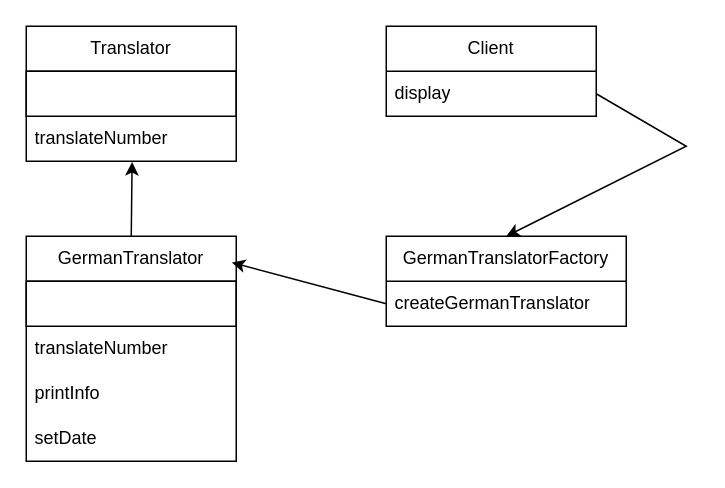
Image size: 725x488. Some labels were removed from this diagram. Each missing label, with the centre of its shape:
date: point 130,303
version: point 130,93
